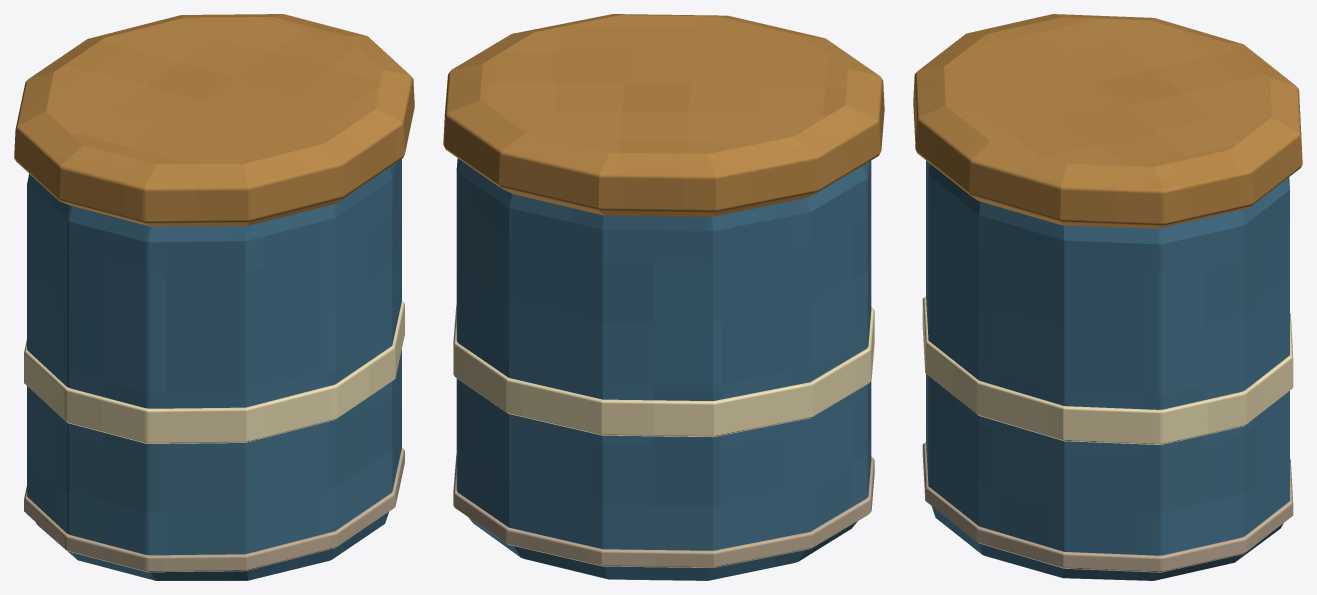
Rendered from CabinetBlueTin.glb.
3 renders of one model, left to right at view 1: azimuth 30°, elevation 25°; view 2: azimuth 150°, elevation 25°; view 3: azimuth 270°, elevation 25°, orthographic. The views are drawn at different scales.
Visible parts, largest first — view 1: CabinetBlueTin.Tin, CabinetBlueTin.Lid, CabinetBlueTin.Enamel-stripe, CabinetBlueTin.Base-seam; view 2: CabinetBlueTin.Tin, CabinetBlueTin.Lid, CabinetBlueTin.Enamel-stripe, CabinetBlueTin.Base-seam; view 3: CabinetBlueTin.Tin, CabinetBlueTin.Lid, CabinetBlueTin.Enamel-stripe, CabinetBlueTin.Base-seam.
Boxes of the visible parts, bbox=[...] form: CabinetBlueTin.Tin: bbox=[27, 159, 401, 580]; CabinetBlueTin.Lid: bbox=[14, 14, 414, 226]; CabinetBlueTin.Enamel-stripe: bbox=[24, 301, 404, 443]; CabinetBlueTin.Base-seam: bbox=[24, 448, 404, 572]; CabinetBlueTin.Tin: bbox=[456, 158, 871, 580]; CabinetBlueTin.Lid: bbox=[443, 14, 884, 217]; CabinetBlueTin.Enamel-stripe: bbox=[453, 305, 874, 437]; CabinetBlueTin.Base-seam: bbox=[453, 454, 874, 567]; CabinetBlueTin.Tin: bbox=[926, 160, 1289, 580]; CabinetBlueTin.Lid: bbox=[913, 14, 1302, 228]; CabinetBlueTin.Enamel-stripe: bbox=[922, 296, 1293, 444]; CabinetBlueTin.Base-seam: bbox=[922, 442, 1293, 572].
Bounding box in the file's own units: 0.1997 × 0.2149 × 0.1836.
Materials: 4 (4 with a texture image).
